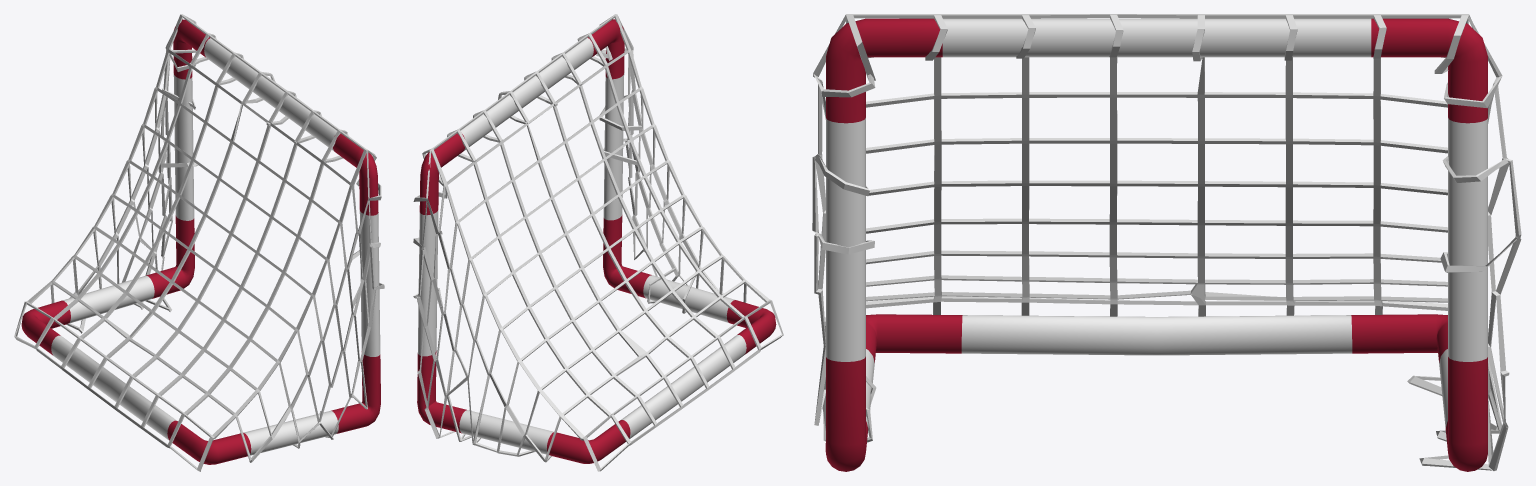
Rendered from goal.glb.
3 views of the same model, side by side, from view 1: azimuth 30°, elevation 25°; view 2: azimuth 150°, elevation 25°; view 3: azimuth 270°, elevation 25° (orthographic). The views are drawn at different scales.
Parts seen in each view (by area): view 1: Net, Tube; view 2: Net, Tube; view 3: Tube, Net.
Part boxes in pixels (box(x1,y1,x2,y2)): Net: box(14, 14, 384, 471); Tube: box(21, 19, 380, 464); Net: box(413, 14, 783, 471); Tube: box(417, 19, 776, 463); Tube: box(825, 18, 1487, 471); Net: box(812, 14, 1521, 470).
Size of the model in its own units: 36.79 by 53.09 by 71.94.
